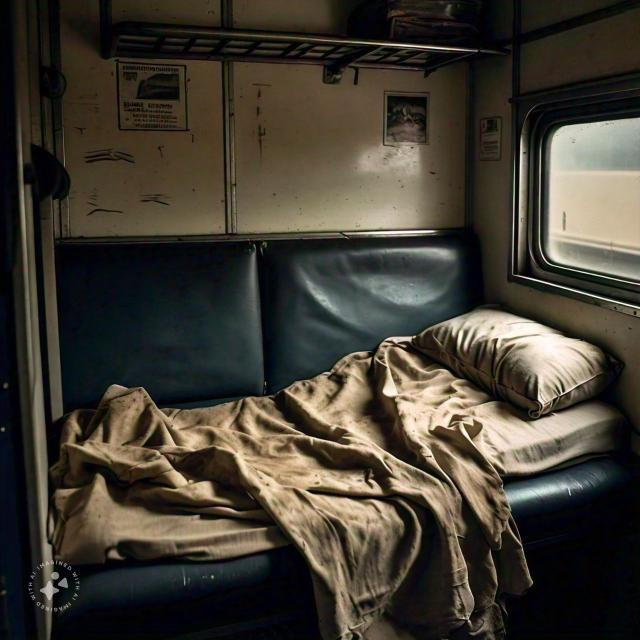DirtyTorn: (38, 277, 612, 607)
